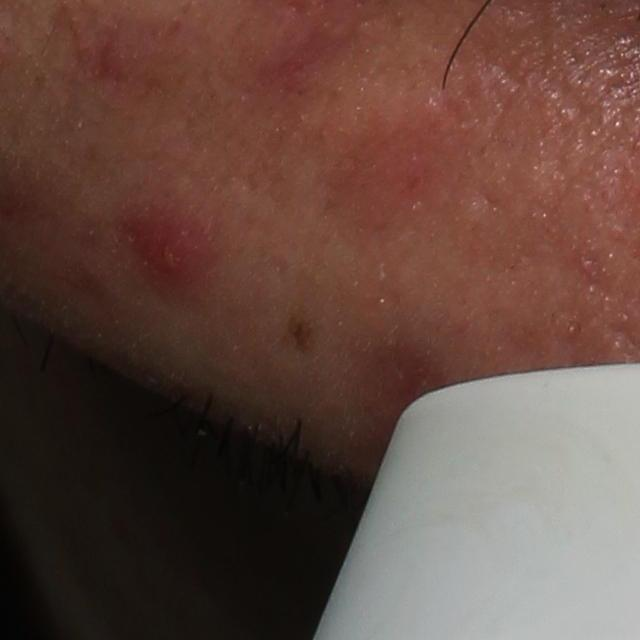nevus: (284, 312, 321, 356)
